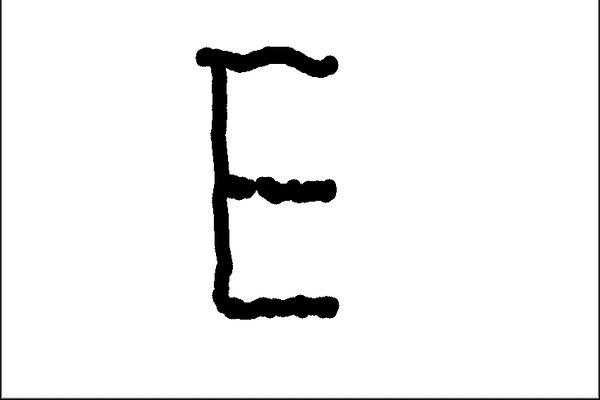E: (191, 44, 352, 325)
